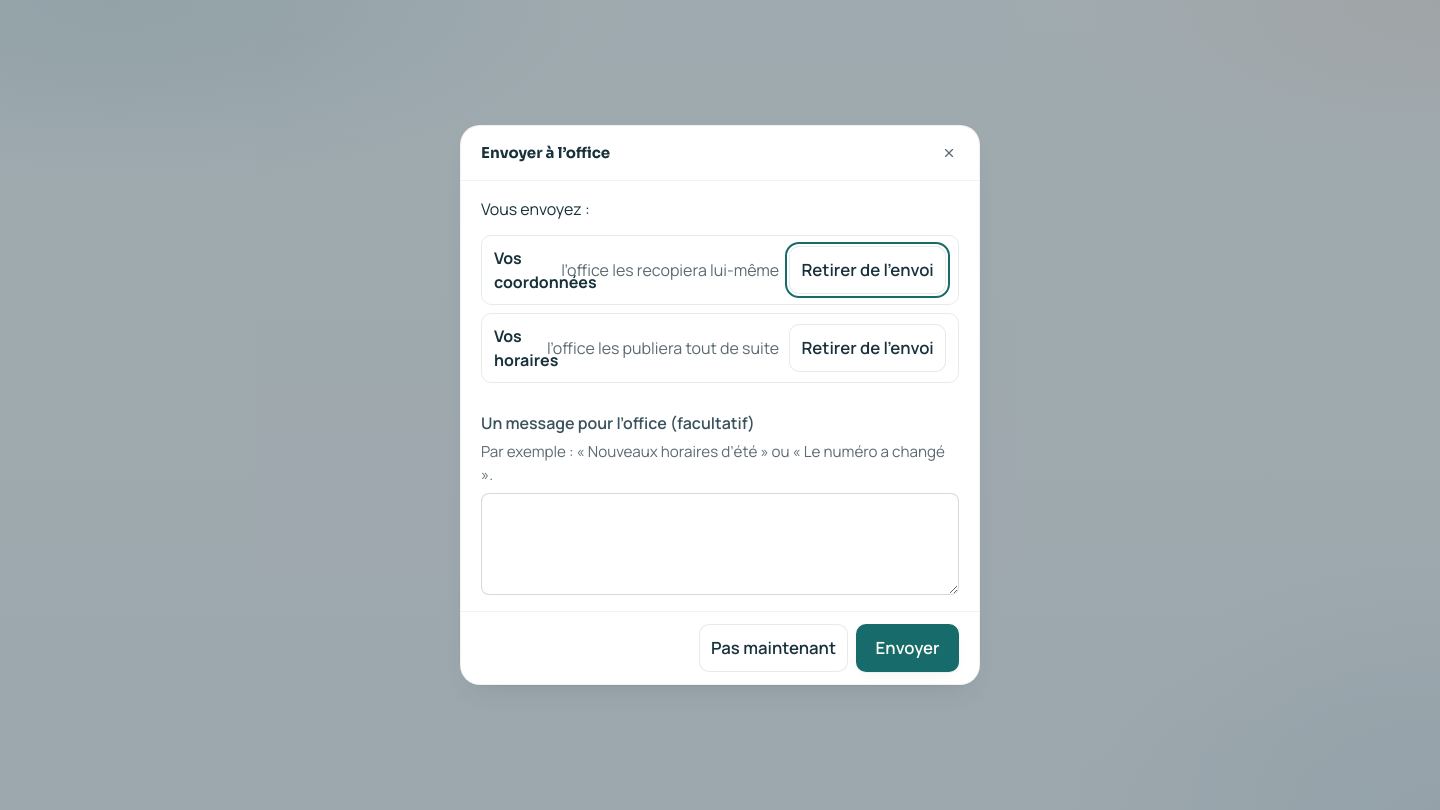
Test: PortalSendModal › « rubrique fermée » (22023) → dit quoi FAIRE : la retirer de l’envoi
Click the button "Envoyer". click: (908, 648)
box: [856,624,959,672]
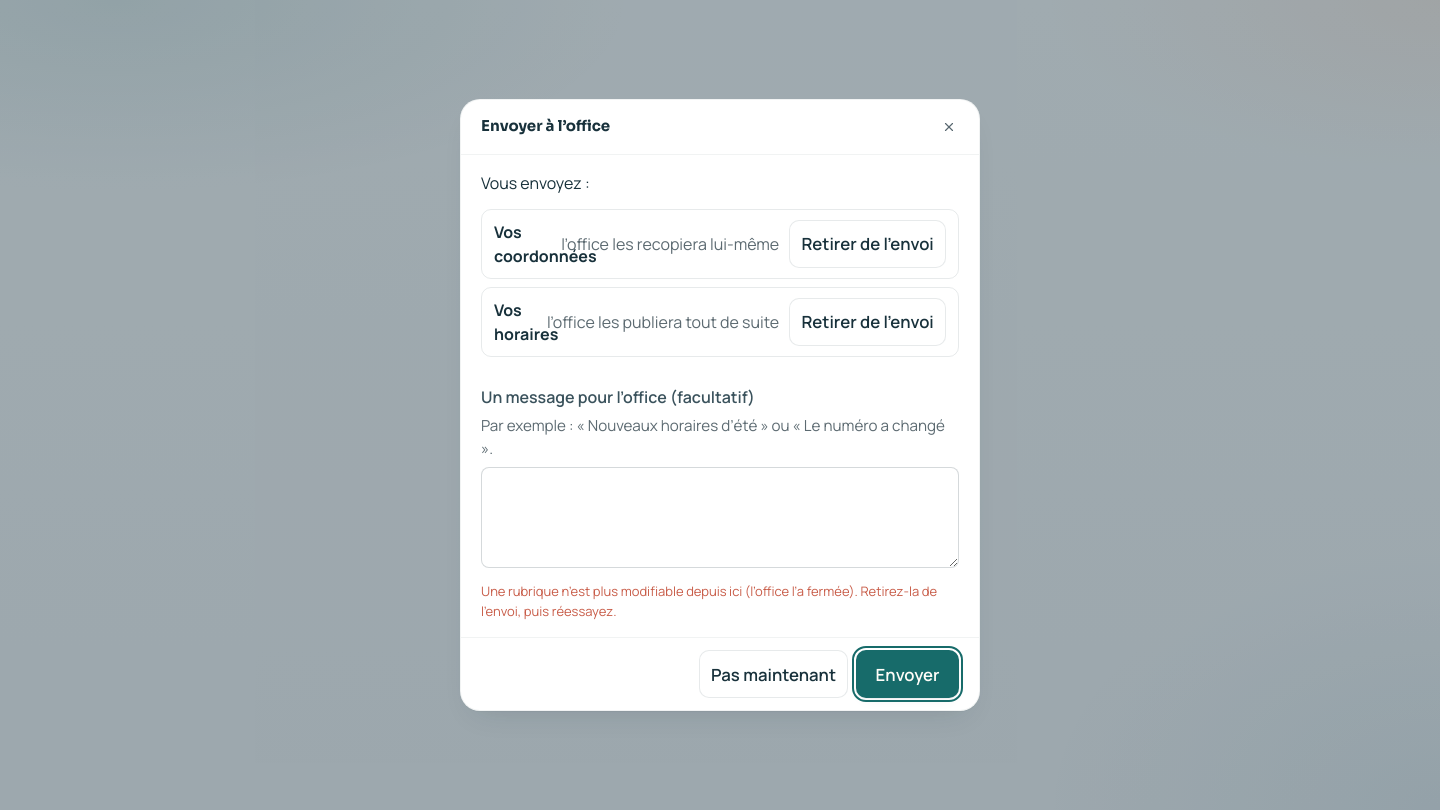
expect the text "Une rubrique n’est plus modifiable depuis ici (l’office l’a fermée). Retirez-la de l’envoi, puis réessayez." is shown: met, box [481,582,937,620]
